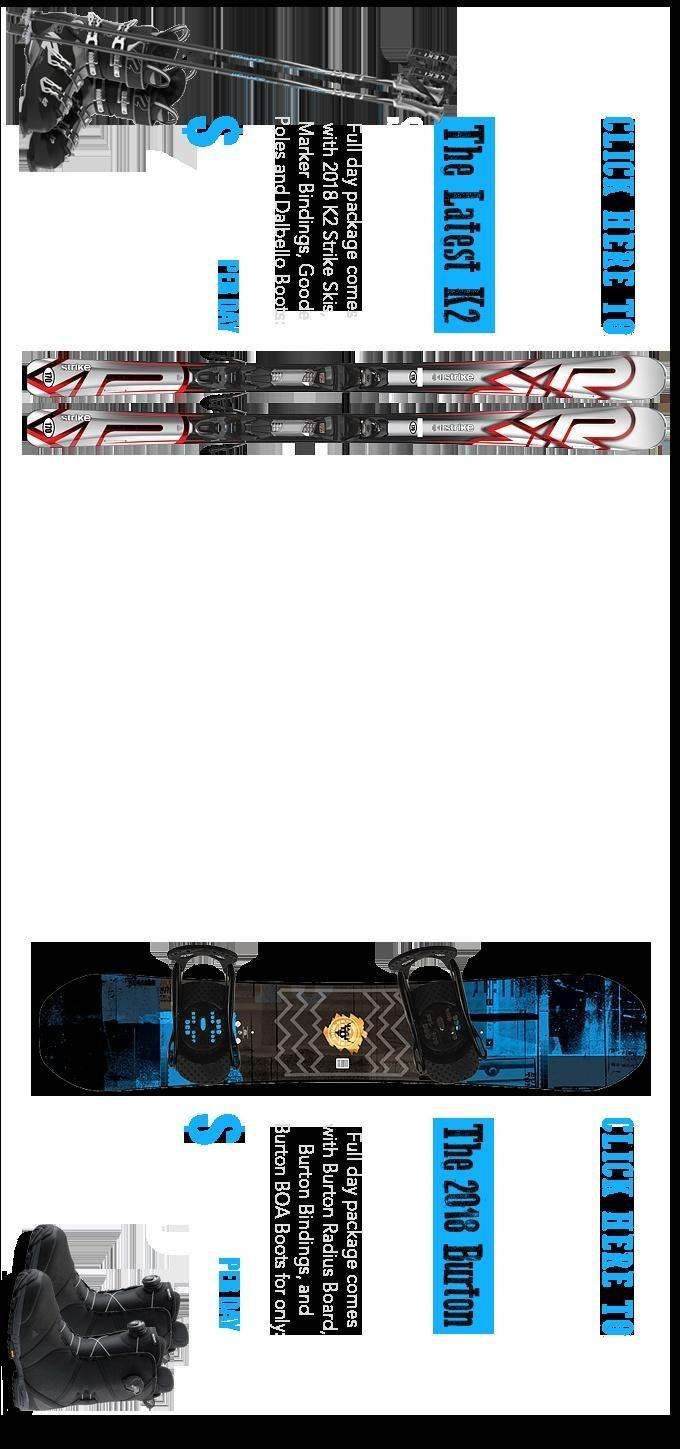Skis: (0, 272, 680, 562)
